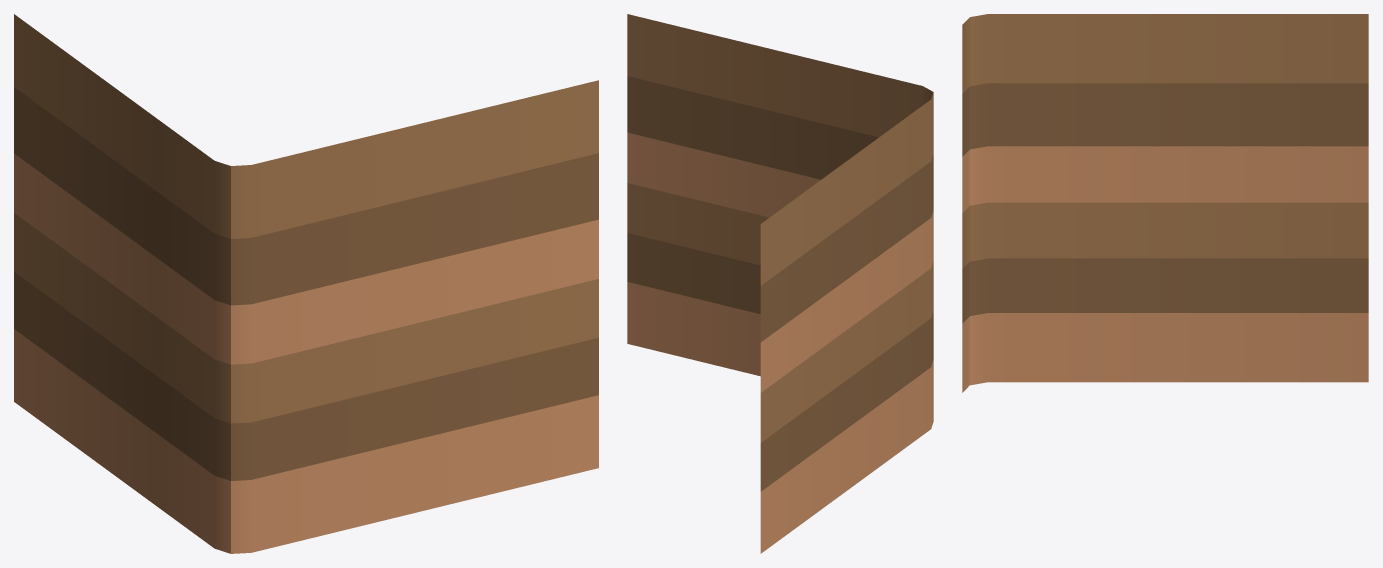
Rendered from Cube_Grass_CornerCenter_Tall.gltf.
The picture shows the model from 3 angles, left to right: view 1: azimuth 30°, elevation 25°; view 2: azimuth 150°, elevation 25°; view 3: azimuth 270°, elevation 25°; orthographic projection. The views are drawn at different scales.
Parts seen in each view (by area): view 1: Cube_Grass_CornerCenter_Tall; view 2: Cube_Grass_CornerCenter_Tall; view 3: Cube_Grass_CornerCenter_Tall.
Boxes of the visible parts, bbox=[...] form: Cube_Grass_CornerCenter_Tall: bbox=[14, 14, 598, 553]; Cube_Grass_CornerCenter_Tall: bbox=[627, 14, 933, 553]; Cube_Grass_CornerCenter_Tall: bbox=[962, 14, 1368, 392].
Bounding box in the file's own units: 2 × 2 × 2.
